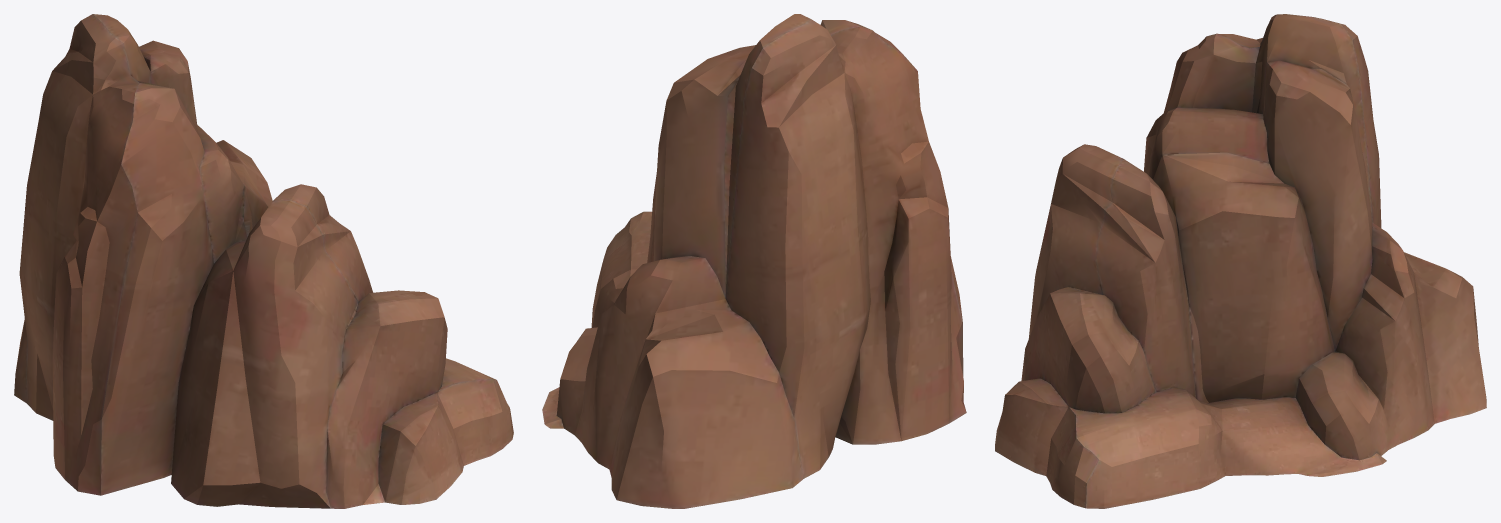
The picture shows the model from 3 angles, left to right: view 1: azimuth 30°, elevation 25°; view 2: azimuth 150°, elevation 25°; view 3: azimuth 270°, elevation 25°; orthographic projection. The views are drawn at different scales.
Visible parts, largest first — view 1: body0_model0_lod0_mesh0; view 2: body0_model0_lod0_mesh0; view 3: body0_model0_lod0_mesh0.
Boxes of the visible parts, x1,y1,x2,y2 form: body0_model0_lod0_mesh0: (14,14,513,508); body0_model0_lod0_mesh0: (542,14,966,508); body0_model0_lod0_mesh0: (995,14,1486,508).
Size of the model in its own units: 298 by 290 by 354.
Materials: 1 (1 with a texture image).
